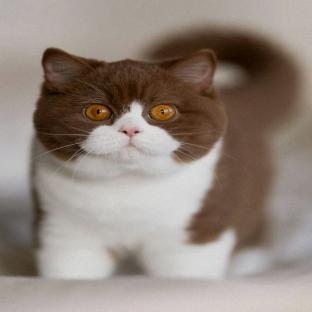Animal: (33, 34, 295, 279)
